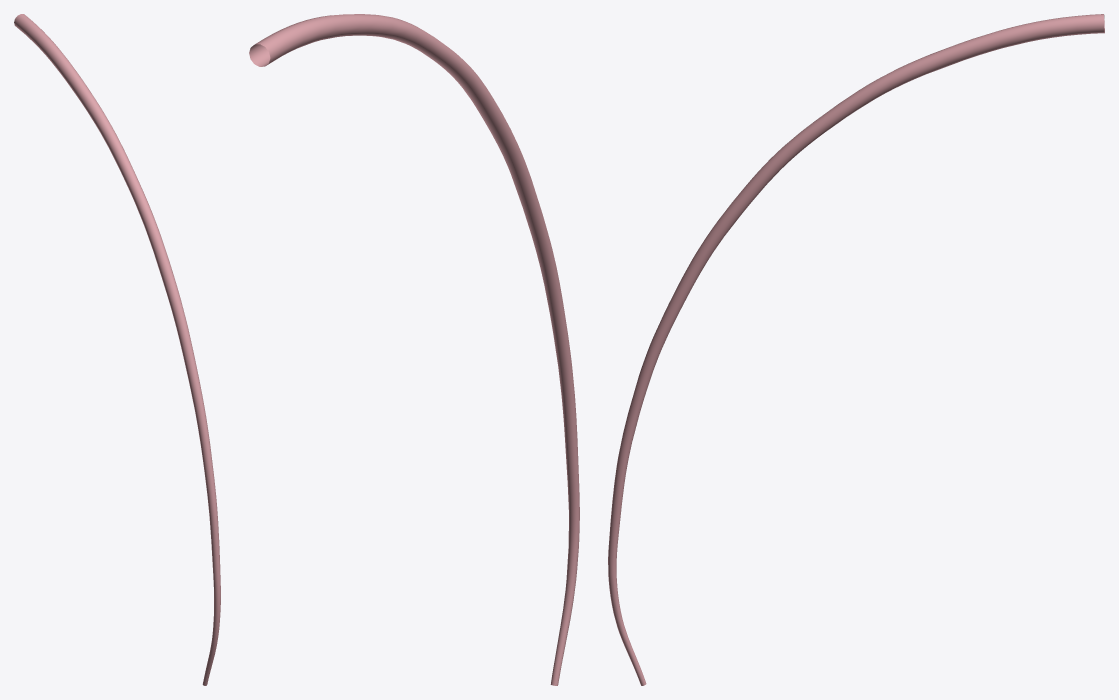
Rendered from circulatorio-superficial-dorsal-veins-of-penis.glb.
3 renders of one model, left to right at view 1: azimuth 30°, elevation 25°; view 2: azimuth 150°, elevation 25°; view 3: azimuth 270°, elevation 25°, orthographic. The views are drawn at different scales.
Visible parts, largest first — view 1: Superficial dorsal veins of penis; view 2: Superficial dorsal veins of penis; view 3: Superficial dorsal veins of penis.
Part boxes in pixels (x1,y1,x2,y2): Superficial dorsal veins of penis: (14,14,220,685); Superficial dorsal veins of penis: (249,14,579,685); Superficial dorsal veins of penis: (608,14,1104,685).
Size of the model in its own units: 0.002 by 0.0767 by 0.0515.
